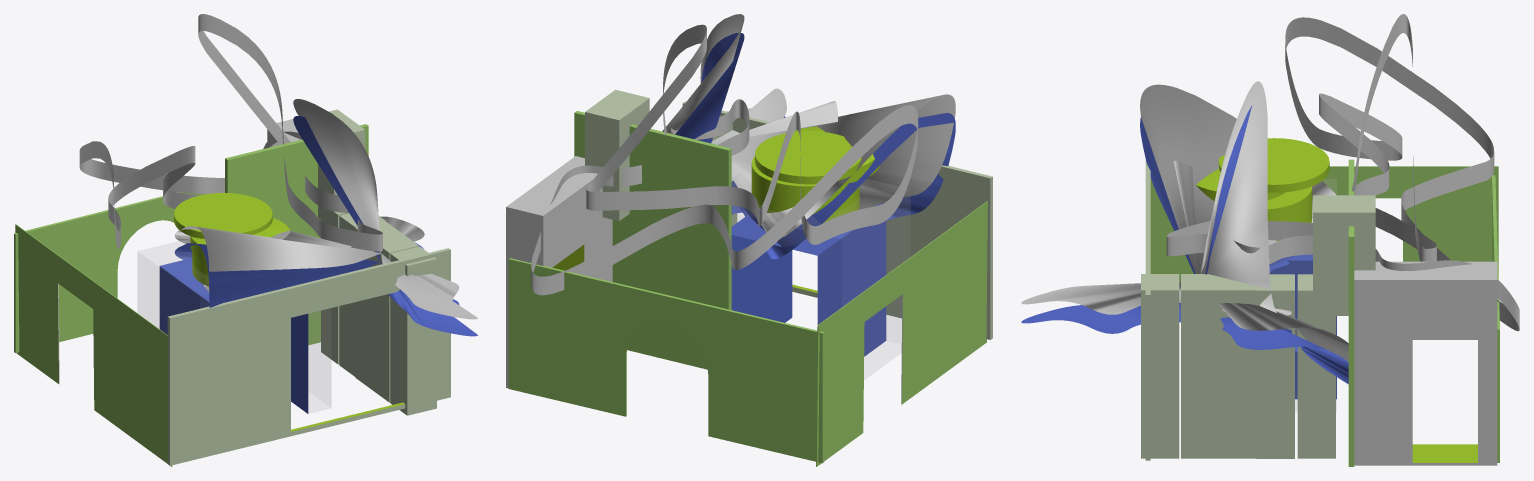
The model's file is greenhousse2.fbx.
3 views of the same model, side by side, from view 1: azimuth 30°, elevation 25°; view 2: azimuth 150°, elevation 25°; view 3: azimuth 270°, elevation 25° (orthographic). The views are drawn at different scales.
Parts seen in each view (by area): view 1: Cube_3_4, Cube_2, Cap_2, Extrude, Cube_1, Cap_1, Cube_7, Cube_3, Cube_3_2, Cube_3_3, Oil_Tank_2, Cube (+5 smaller); view 2: Cube_1, Cube_2, Extrude, Cube_7, Cap_2, Cube_3_3, Cube_3_5, Cube_3_4, Cap_1, Cube_2_3, Oil_Tank_2, Cube_3_2 (+1 smaller); view 3: Cap_2, Cube_3_5, Extrude, Cube_2, Cube, Cap_1, Cube_3, Cube_2_3, Cube_6, Cube_5, Cube_4, Oil_Tank_2 (+7 smaller).
Part boxes in pixels (x1,y1,x2,y2): Cube_3_4: (167,248,450,465); Cube_2: (15,224,172,466); Cap_2: (174,99,477,319); Extrude: (79,14,382,251); Cube_1: (14,192,204,352); Cap_1: (174,116,477,336); Cube_7: (225,124,368,345); Cube_3: (390,246,436,415); Cube_3_2: (137,240,331,413); Cube_3_3: (159,258,308,413); Oil_Tank_2: (174,193,272,238); Cube: (372,233,418,402); Cube_1: (508,258,824,463); Cube_2: (816,201,987,466); Extrude: (531,24,918,295); Cube_7: (574,111,731,369); Cap_2: (662,14,955,238); Cube_3_3: (731,204,886,356); Cube_3_5: (506,156,612,388); Cube_3_4: (682,101,992,339); Cap_1: (675,32,955,259); Cube_2_3: (585,89,649,221); Oil_Tank_2: (755,131,862,184); Cube_3_2: (732,173,910,379); Cap_2: (1021,81,1348,361); Cube_3_5: (1354,261,1497,465); Extrude: (1166,14,1519,331); Cube_2: (1150,166,1498,281); Cube: (1181,274,1219,458); Cap_1: (1021,105,1348,384); Cube_3: (1141,274,1179,458); Cube_2_3: (1313,195,1375,315); Cube_6: (1219,277,1257,458); Cube_5: (1256,274,1294,458); Cube_4: (1297,274,1335,458); Oil_Tank_2: (1218,138,1329,192).
Bounding box in the file's own units: 2042 × 2185 × 2598.
